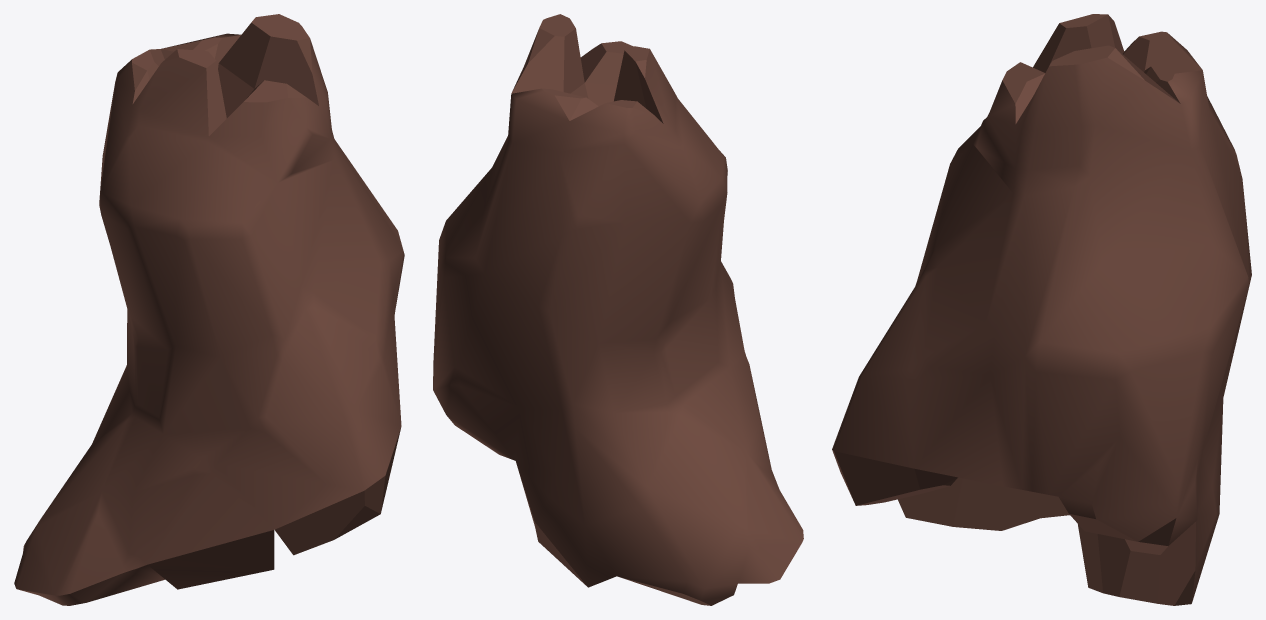
Rendered from p_mesh_hvs_stalagmite_large_destruction_part04.fbx.
3 renders of one model, left to right at view 1: azimuth 30°, elevation 25°; view 2: azimuth 150°, elevation 25°; view 3: azimuth 270°, elevation 25°, orthographic. The views are drawn at different scales.
Parts seen in each view (by area): view 1: p_large_part04; view 2: p_large_part04; view 3: p_large_part04.
Part boxes in pixels (left/top/right/bottom): p_large_part04: left=14, top=14, right=404, bottom=605; p_large_part04: left=433, top=14, right=803, bottom=605; p_large_part04: left=832, top=14, right=1251, bottom=605.
Bounding box in the file's own units: 4.09 × 5.96 × 3.8.
